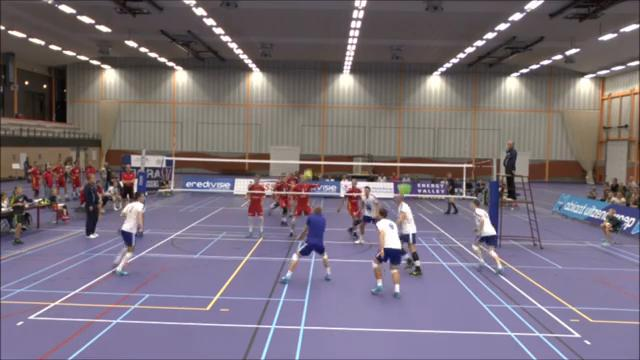Player: (371, 208, 401, 296), (114, 192, 143, 275), (472, 199, 502, 274), (396, 194, 421, 275), (289, 176, 317, 236), (337, 179, 363, 243), (247, 175, 265, 236), (360, 186, 378, 236), (274, 180, 290, 225), (268, 174, 284, 215), (288, 195, 294, 217)
Receive: (280, 203, 336, 282)
ball: (305, 169, 312, 180)
